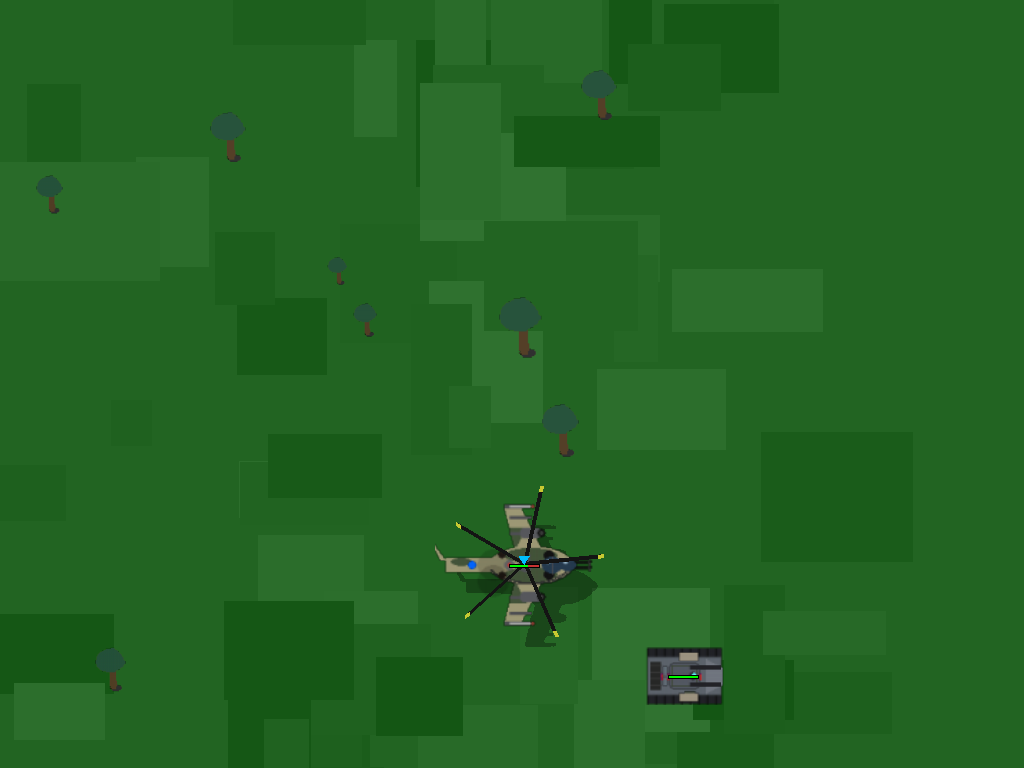APC_rus: (651, 642, 716, 707)
Mi24: (481, 520, 567, 606)
